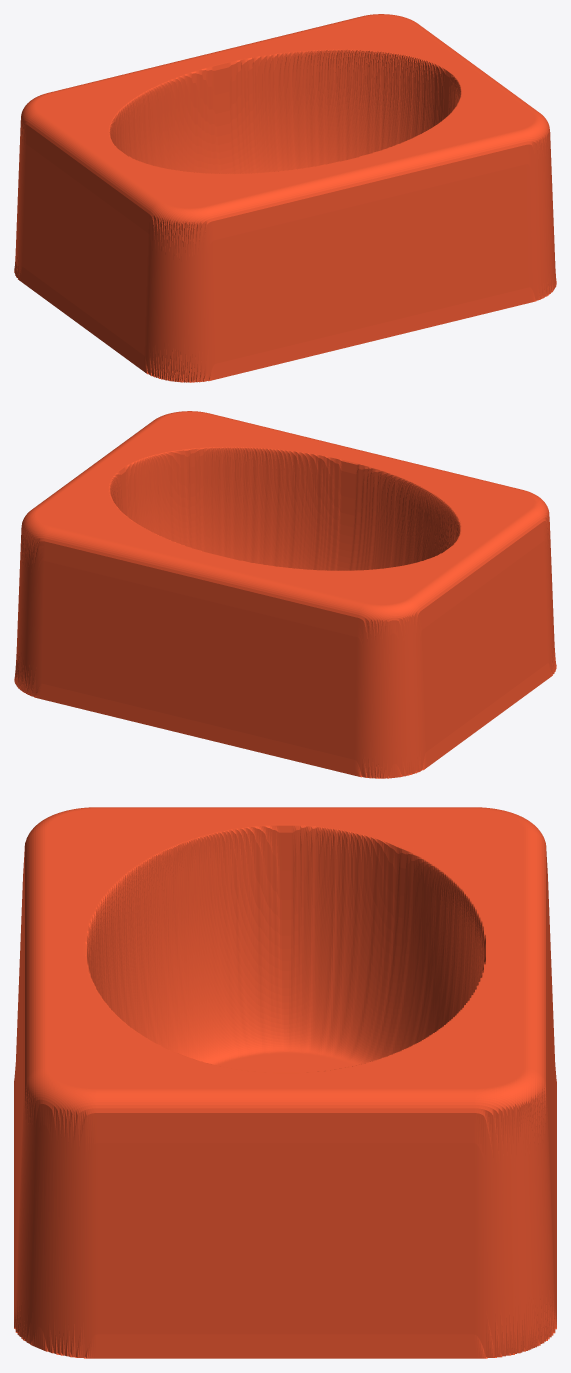
Rendered from mold.glb.
3 views of the same model, one above another, from view 1: azimuth 30°, elevation 25°; view 2: azimuth 150°, elevation 25°; view 3: azimuth 270°, elevation 25° (orthographic). The views are drawn at different scales.
Visible parts, largest first — view 1: geometry_0; view 2: geometry_0; view 3: geometry_0.
Boxes of the visible parts, bbox=[...] form: geometry_0: bbox=[14, 14, 556, 382]; geometry_0: bbox=[14, 411, 556, 778]; geometry_0: bbox=[14, 807, 556, 1358].
Bounding box in the file's own units: 0.0798 × 0.031 × 0.0596.
